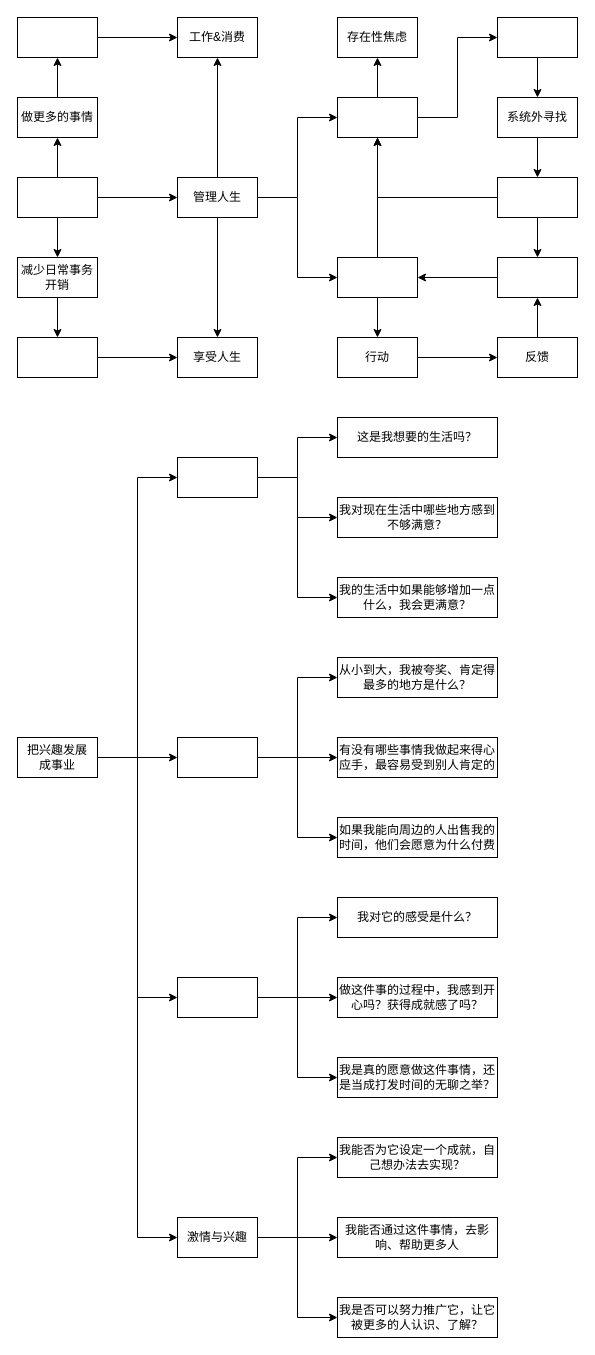
Some shapes in this 595 by 1355 pixel diagram are drawn without their labels. The shapes that lost their labels are listed below. From the top down, each one's centre as x and y in pixels, then its label:
At (57,37): "假忙碌".
At (537,37): "自我指涉".
At (377,117): "意义".
At (57,197): "管理时间".
At (537,197): "高于个体的 事业".
At (377,277): "兴趣".
At (537,277): "激情".
At (57,357): "做真正想做的事情".
At (217,477): "停下来思考".
At (217,757): "行动并尝试".
At (217,997): "沉浸于其中".
